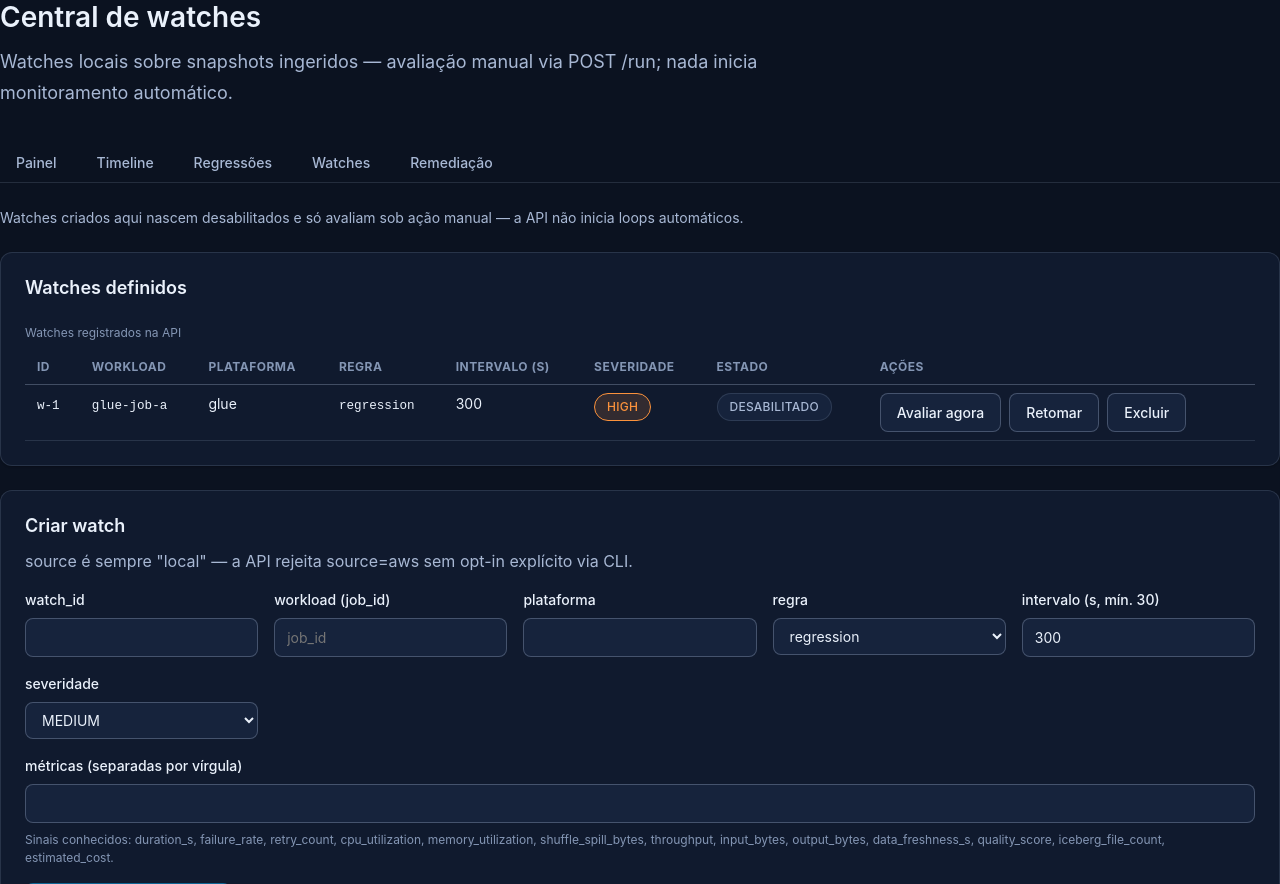
Scenario: WatchCenterComponent › requires two steps to delete a watch
This screenshot has width=1280, height=884.
Click the button "Excluir". click: (1147, 412)
box: [1107, 393, 1186, 432]
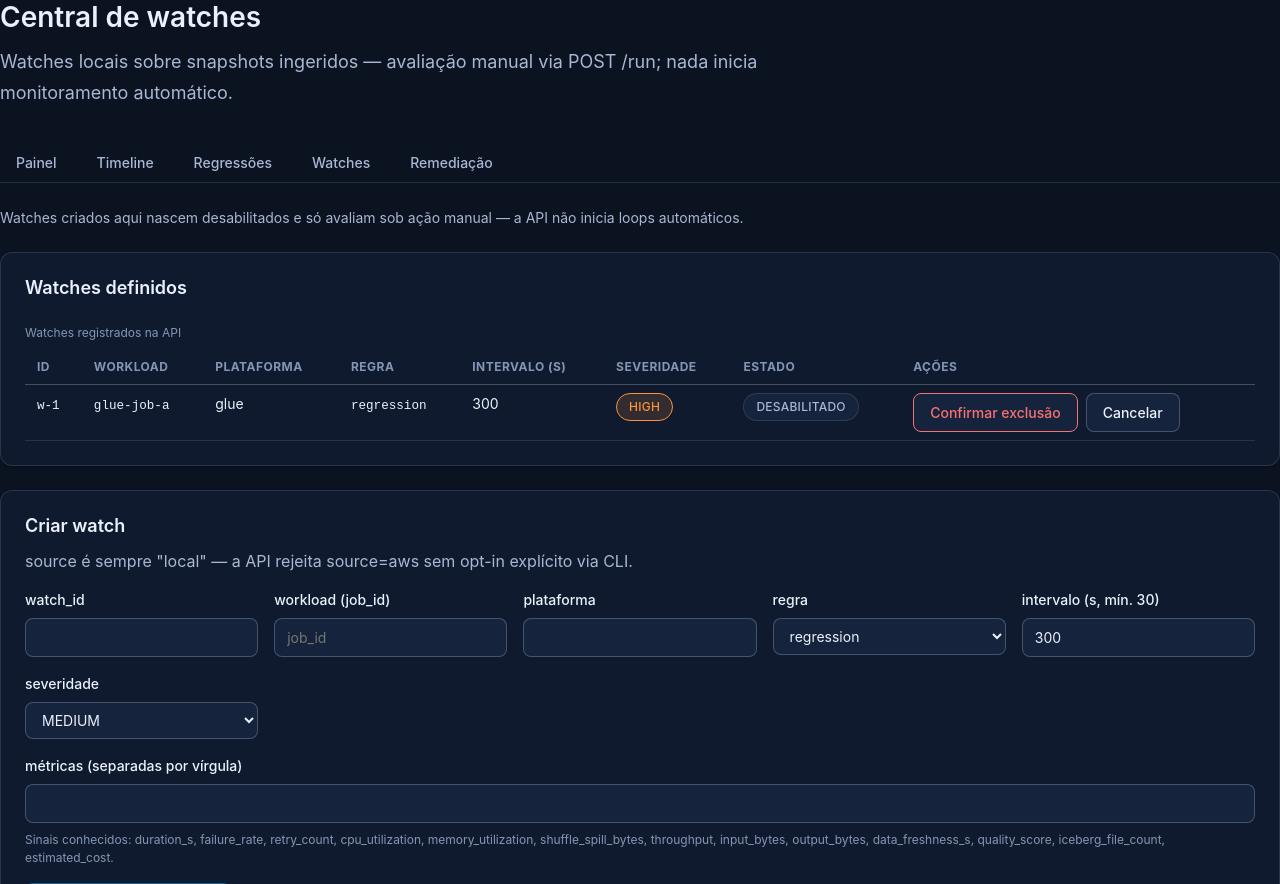
Click the button "Confirmar exclusão". click: (995, 412)
box: [913, 393, 1078, 432]
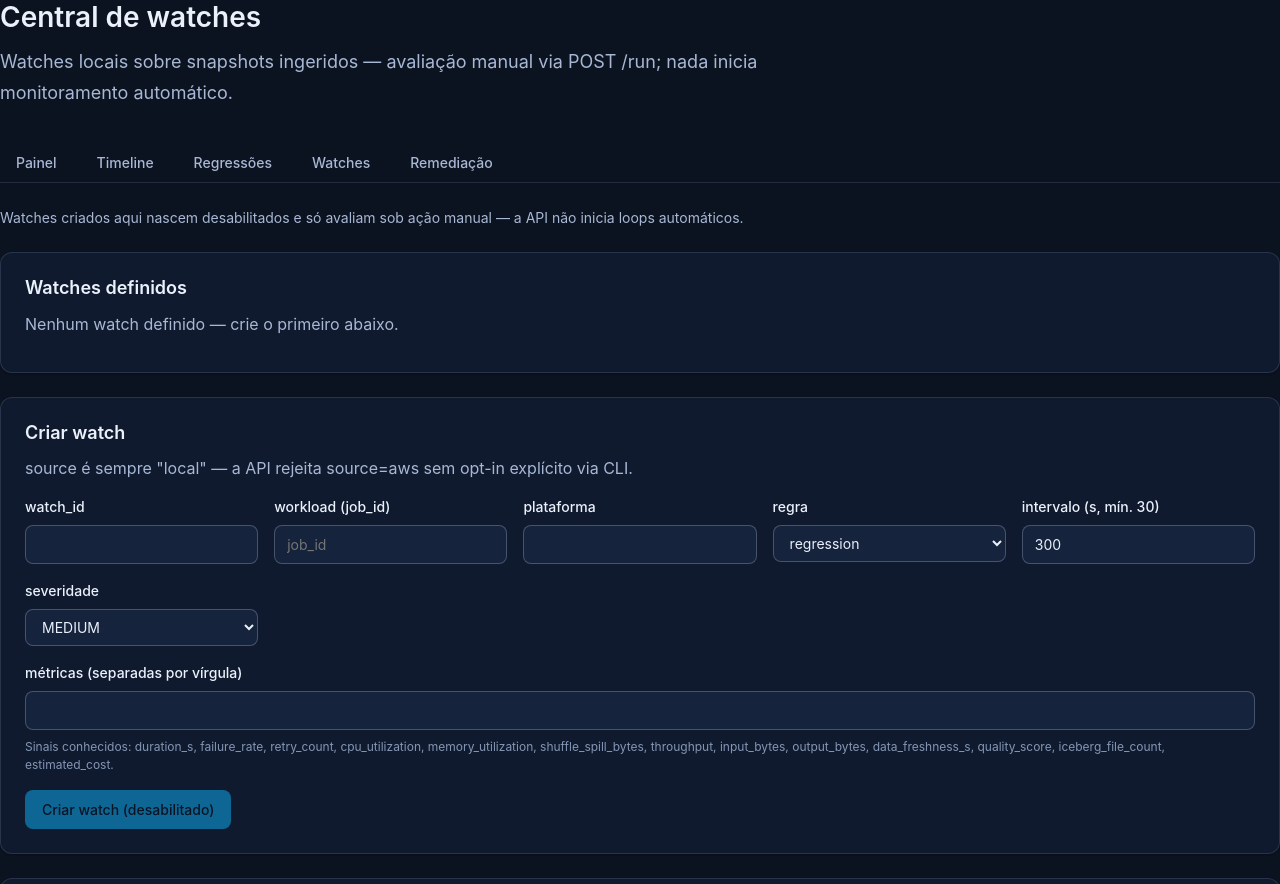
Result: the text "w-1" is gone
